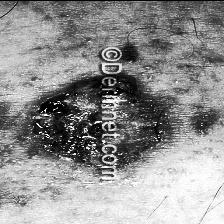Potentially Malignant Skin Tumors: (34, 69, 168, 164)
